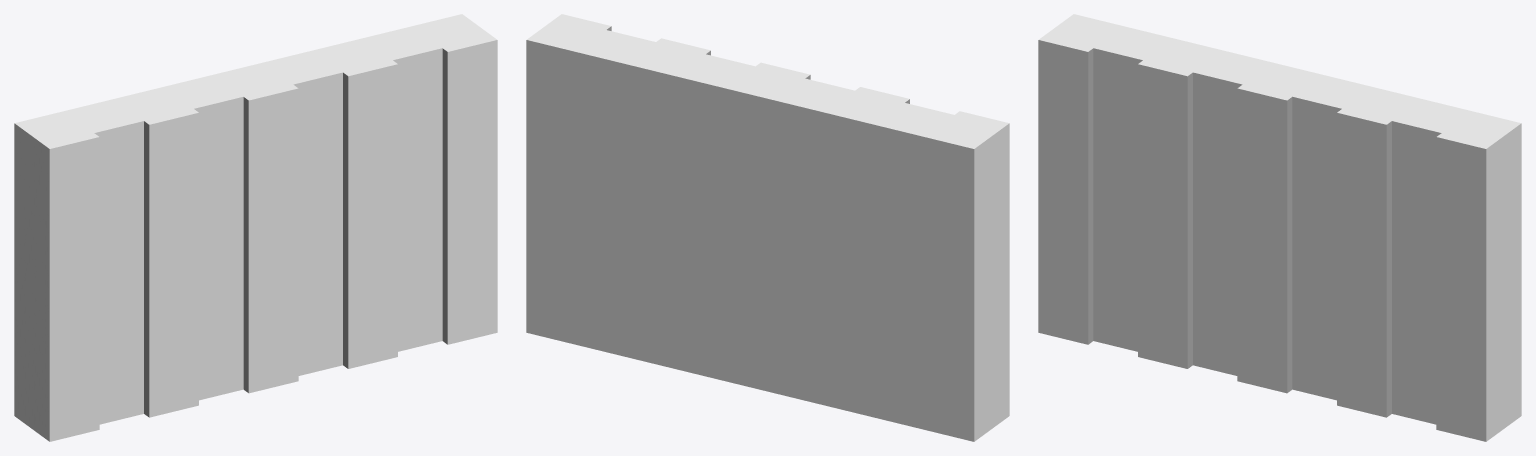
File: radiator.fbx
The picture shows the model from 3 angles, left to right: view 1: azimuth 30°, elevation 25°; view 2: azimuth 150°, elevation 25°; view 3: azimuth 330°, elevation 25°; orthographic projection.
Parts seen in each view (by area): view 1: pCube1; view 2: pCube1; view 3: pCube1.
Part boxes in pixels (<box>): pCube1: <box>14,14,497,441</box>; pCube1: <box>526,14,1009,441</box>; pCube1: <box>1038,14,1521,441</box>.
Size of the model in its own units: 10 by 6.25 by 1.37.
Materials: 1 (1 with a texture image).
